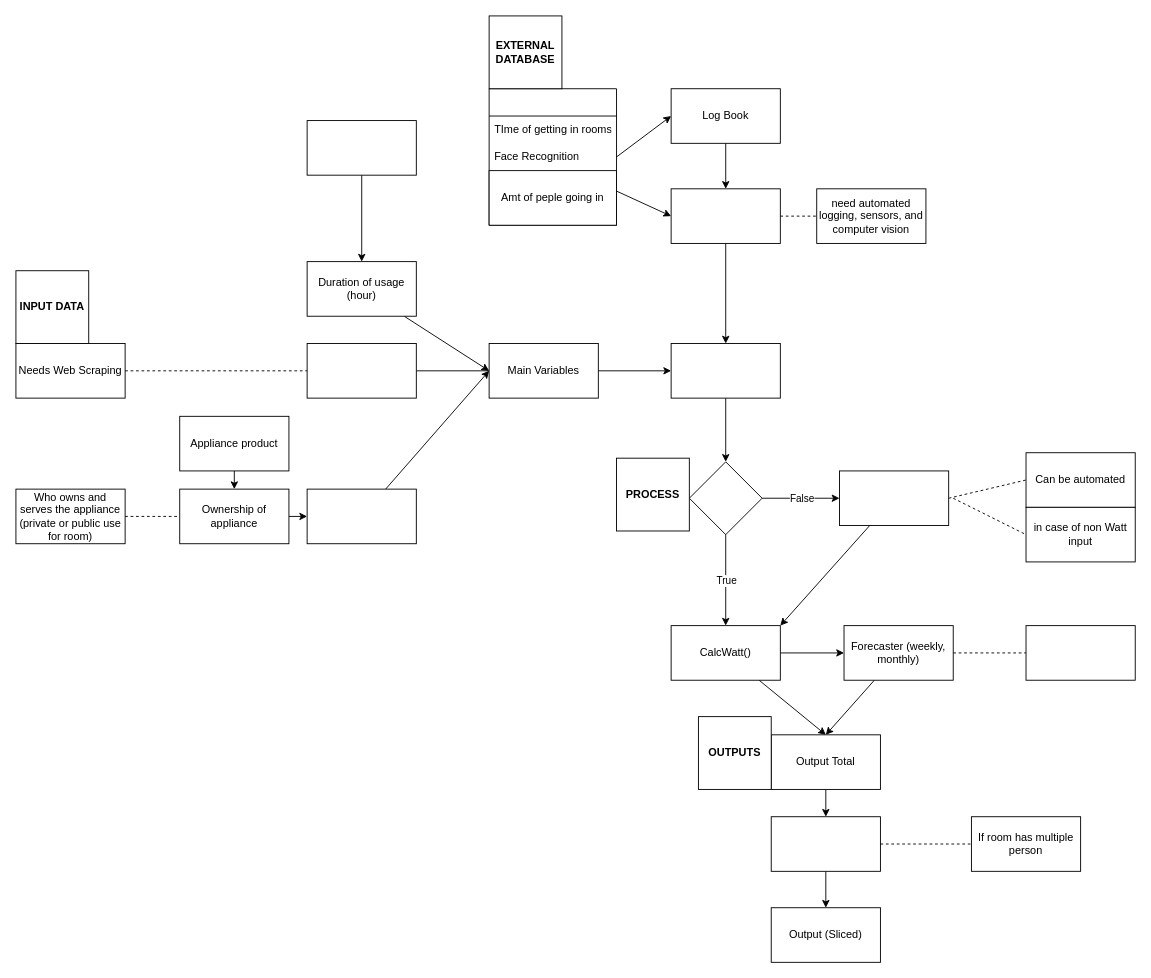
Image size: 1151x978. Some labels were removed from this diagram. The box of each missing label's shape, as (x1, y1, x2, y2) in pixels:
Also conseder MINUTES, SECONDS, MILLISECONDS: (306, 120, 416, 175)
COLLECTED DATA (Main Inputs and Database Input): (670, 343, 780, 398)
Cost slicer via usage of Person (from Log DataBase()): (770, 816, 880, 871)
Electric Costs (as of Meralco): (306, 343, 416, 398)
If usage is consistent in terms of time, and appliance.: (1025, 625, 1135, 680)
If Watt unit: (688, 461, 762, 535)
Log Database: (670, 188, 780, 243)
LogBook: (488, 88, 617, 225)
Unit Converter: (839, 470, 949, 526)
Wattage of appliance: (306, 488, 416, 544)
